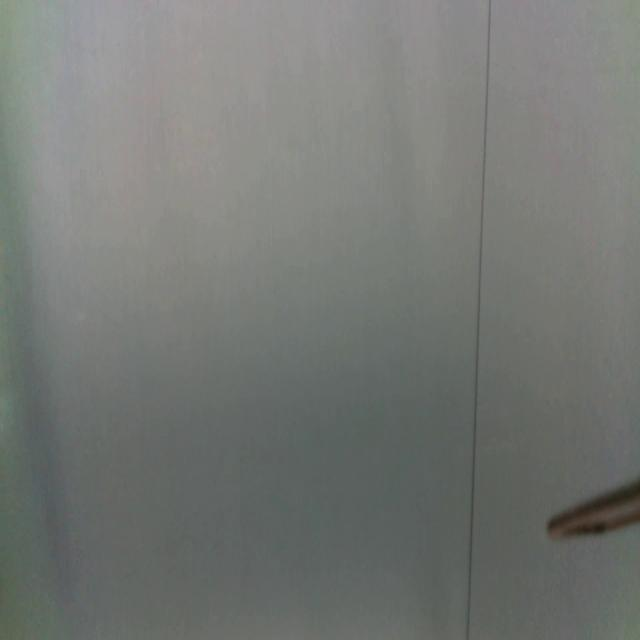crease: (467, 0, 492, 640)
